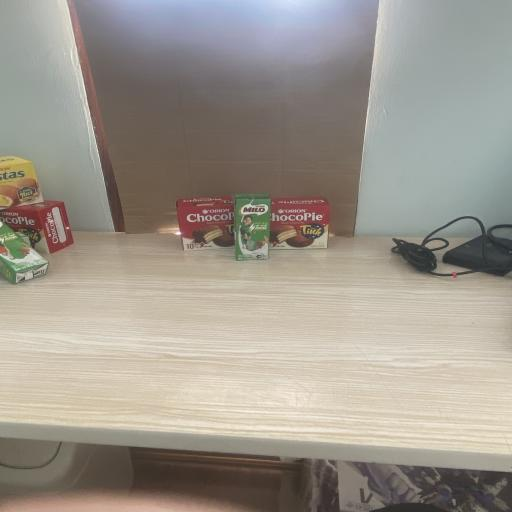chocopie: (0, 199, 74, 255), (176, 195, 235, 251), (270, 197, 329, 250)
custas: (0, 155, 44, 209)
milo: (0, 222, 50, 285), (232, 193, 271, 261)
